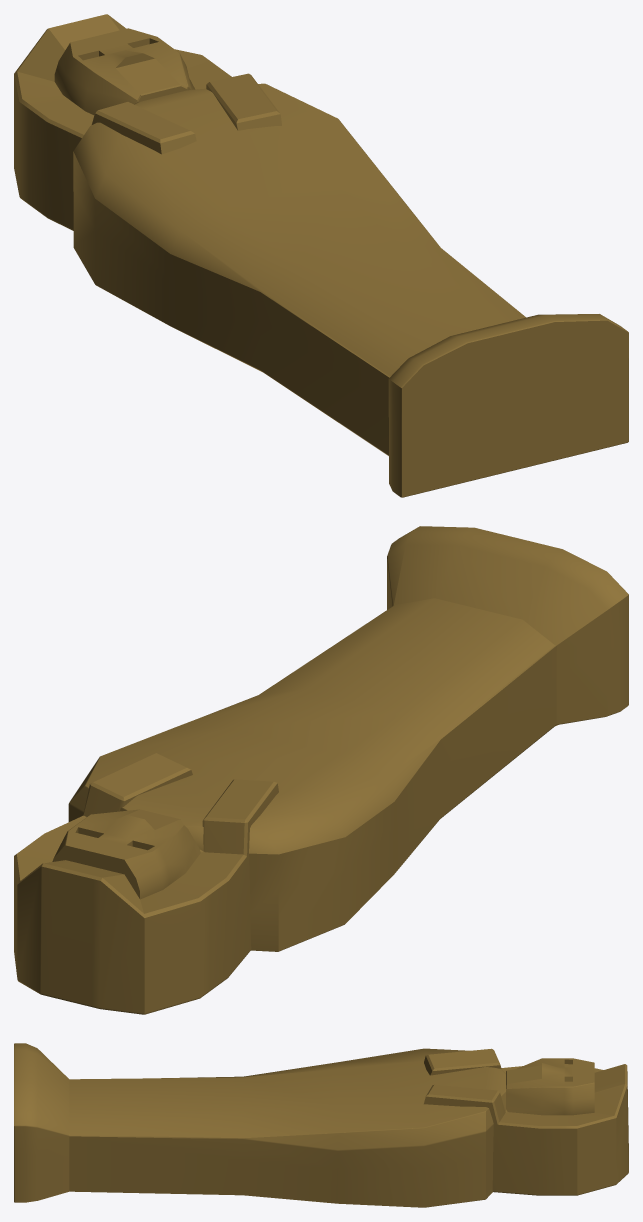
The model's file is WM_Sarcophagus.fbx.
The picture shows the model from 3 angles, top to bottom: view 1: azimuth 30°, elevation 25°; view 2: azimuth 150°, elevation 25°; view 3: azimuth 270°, elevation 25°; orthographic projection. The views are drawn at different scales.
Parts seen in each view (by area): view 1: pCube23; view 2: pCube23; view 3: pCube23.
Part boxes in pixels (bbox=[...]): pCube23: bbox=[14, 14, 628, 497]; pCube23: bbox=[14, 526, 628, 1014]; pCube23: bbox=[14, 1043, 628, 1207].
Bounding box in the file's own units: 4.88 × 2.62 × 14.74.
